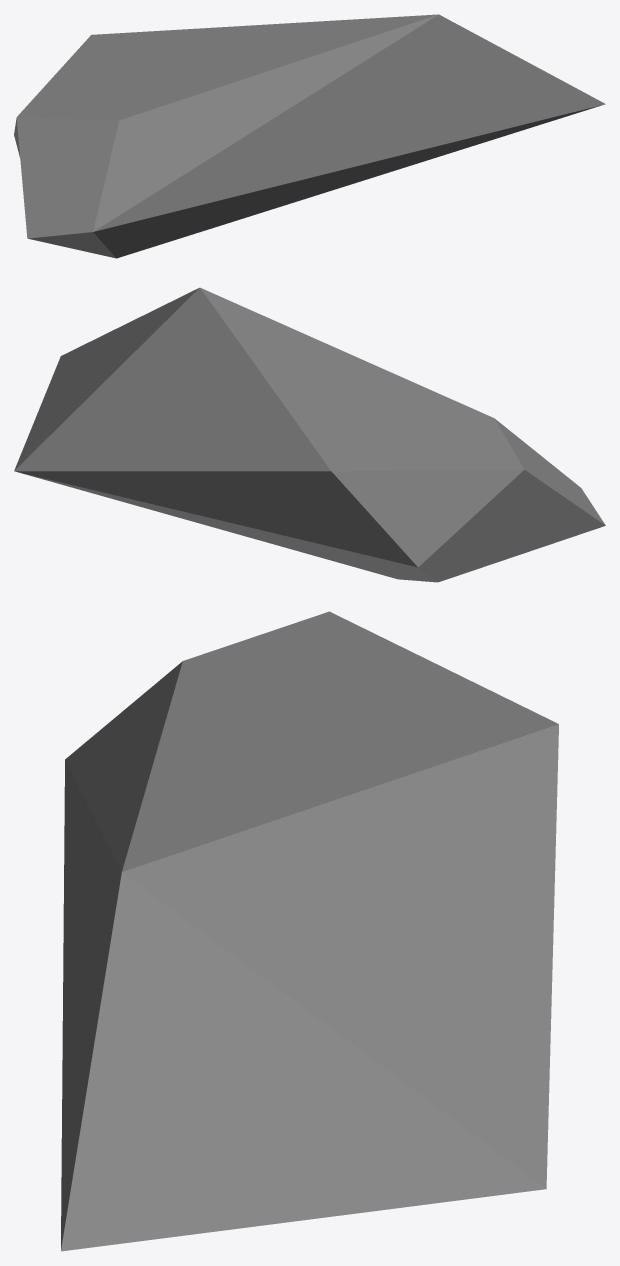
The model's file is O_stone_01.fbx.
3 renders of one model, top to bottom at view 1: azimuth 30°, elevation 25°; view 2: azimuth 150°, elevation 25°; view 3: azimuth 270°, elevation 25°, orthographic. The views are drawn at different scales.
Parts seen in each view (by area): view 1: Stone.001; view 2: Stone.001; view 3: Stone.001.
Part boxes in pixels (x1,y1,x2,y2): Stone.001: (14,14,605,258); Stone.001: (14,287,605,582); Stone.001: (61,611,558,1251).
Bounding box in the file's own units: 2.06 × 0.598 × 0.7967.
